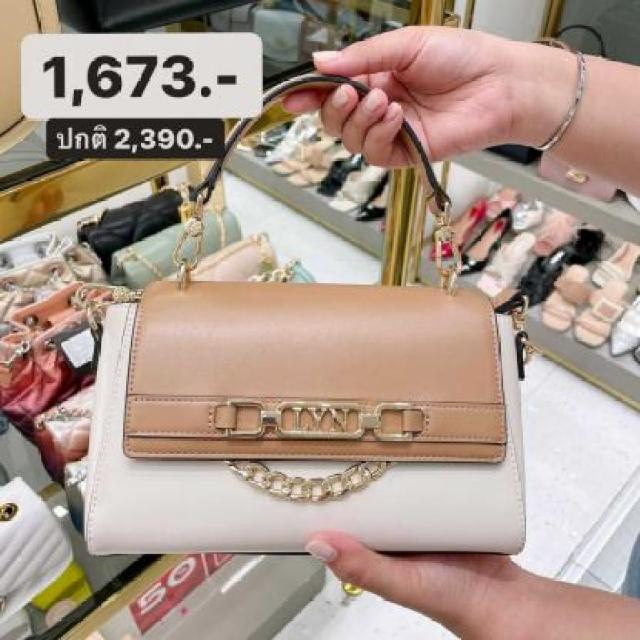Bag: (75, 67, 550, 587)
